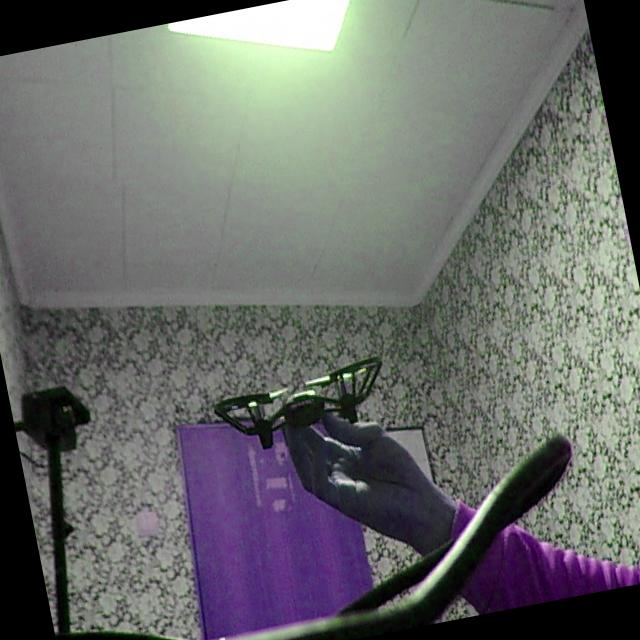drone: (196, 338, 407, 468)
